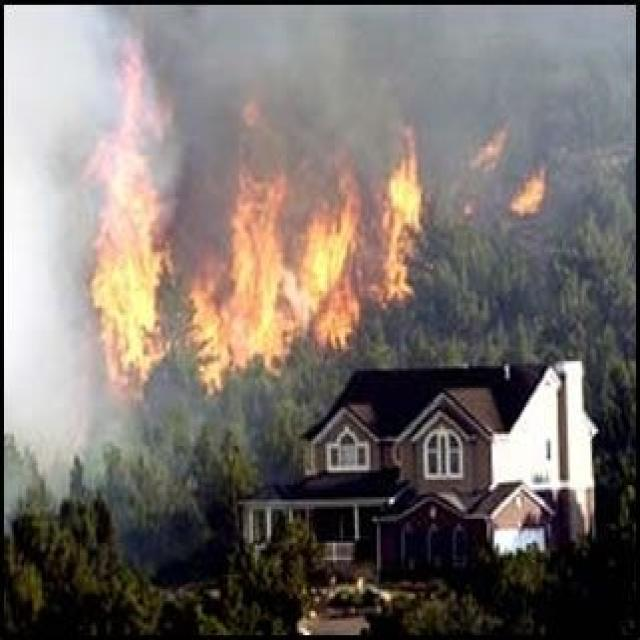Fire: (75, 56, 548, 417)
Smoke: (83, 0, 571, 151), (0, 0, 76, 468)
